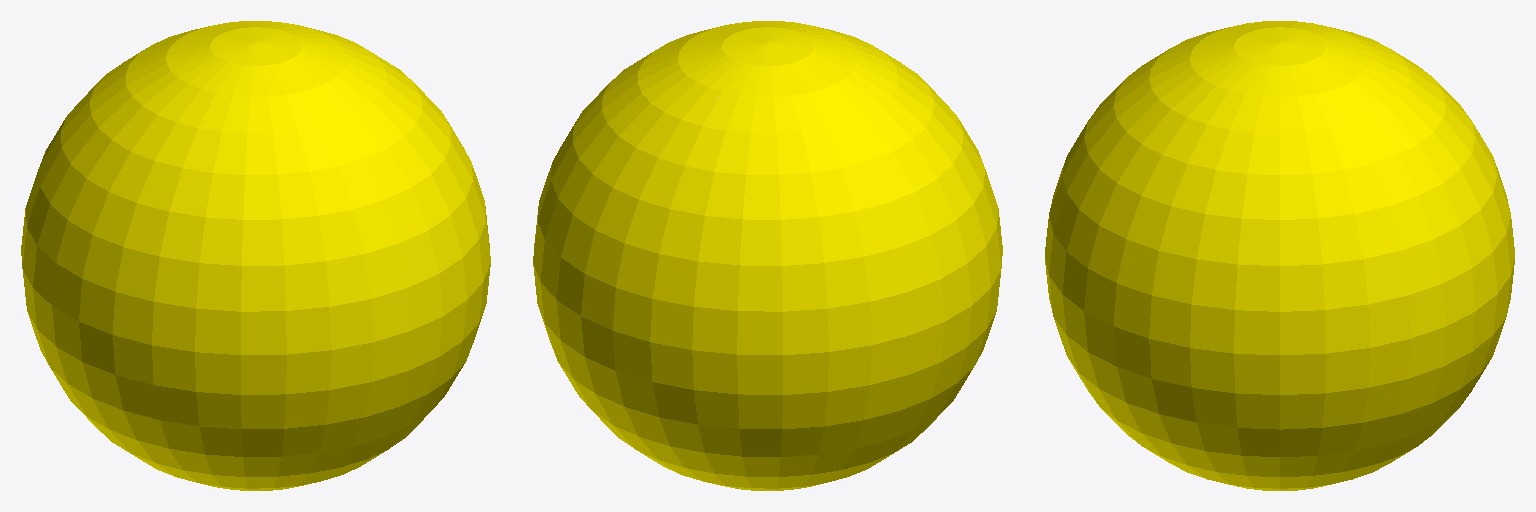
3 renders of one model, left to right at view 1: azimuth 30°, elevation 25°; view 2: azimuth 150°, elevation 25°; view 3: azimuth 270°, elevation 25°, orthographic.
Visible parts, largest first — view 1: 球; view 2: 球; view 3: 球.
Part boxes in pixels (x1,y1,x2,y2): 球: (21, 21, 490, 490); 球: (533, 21, 1002, 490); 球: (1045, 21, 1514, 490).
Size of the model in its own units: 2 by 2 by 2.
3 materials, 3 textured.